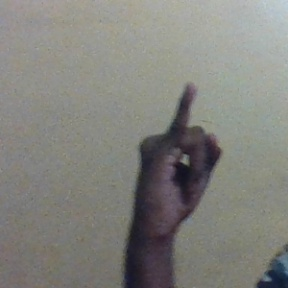I: (134, 83, 224, 235)
